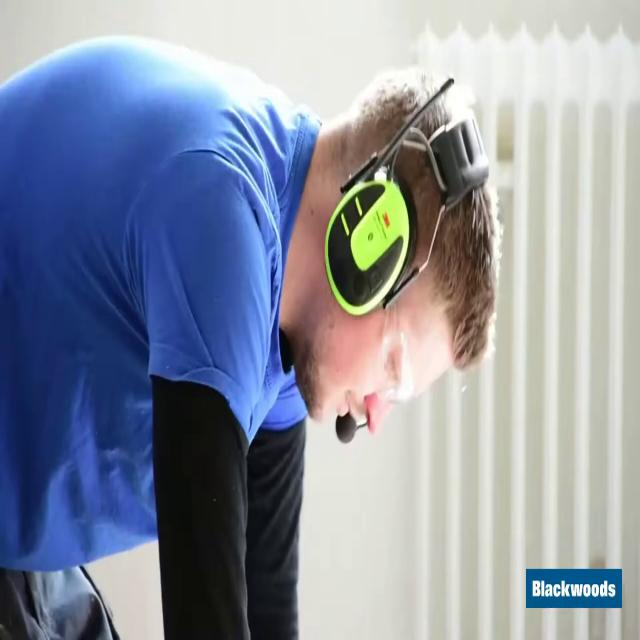earmuff: (322, 165, 420, 320)
